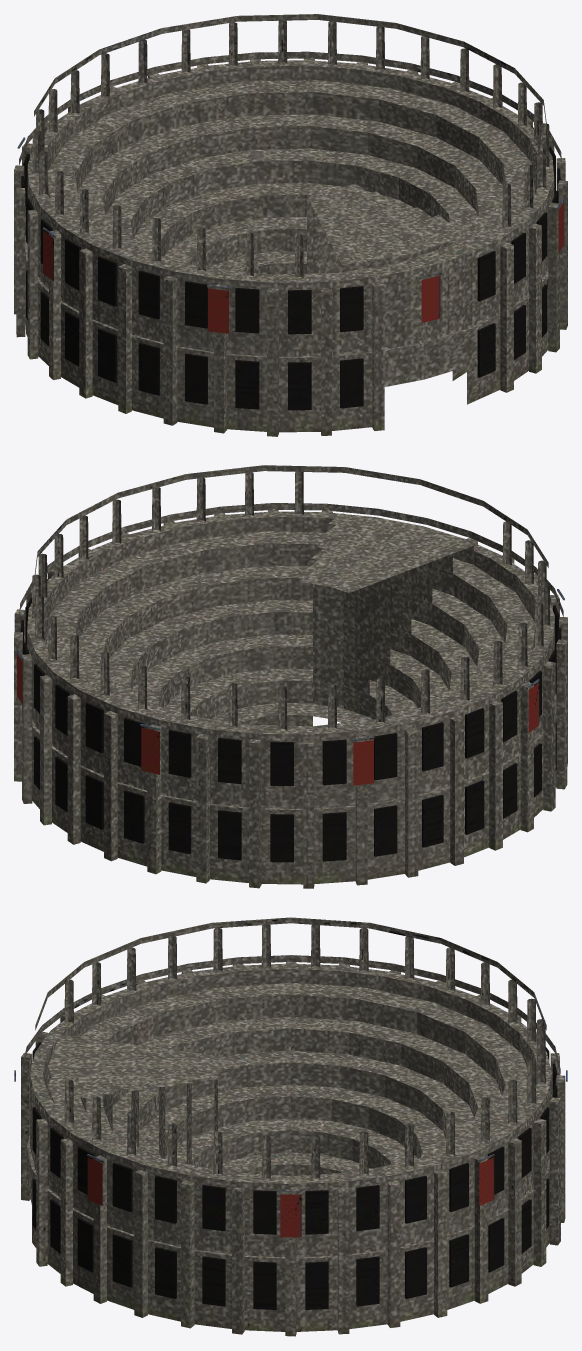
The model's file is bld_colosseum_card_lod1.glb.
3 renders of one model, top to bottom at view 1: azimuth 30°, elevation 25°; view 2: azimuth 150°, elevation 25°; view 3: azimuth 270°, elevation 25°, orthographic.
Visible parts, largest first — view 1: colosseum_card; view 2: colosseum_card; view 3: colosseum_card.
Boxes of the visible parts, x1,y1,x2,y2 form: colosseum_card: (14,14,567,436); colosseum_card: (14,465,567,888); colosseum_card: (14,917,567,1336).
Size of the model in its own units: 44.2 by 17.17 by 44.2.
1 material, 1 textured.
